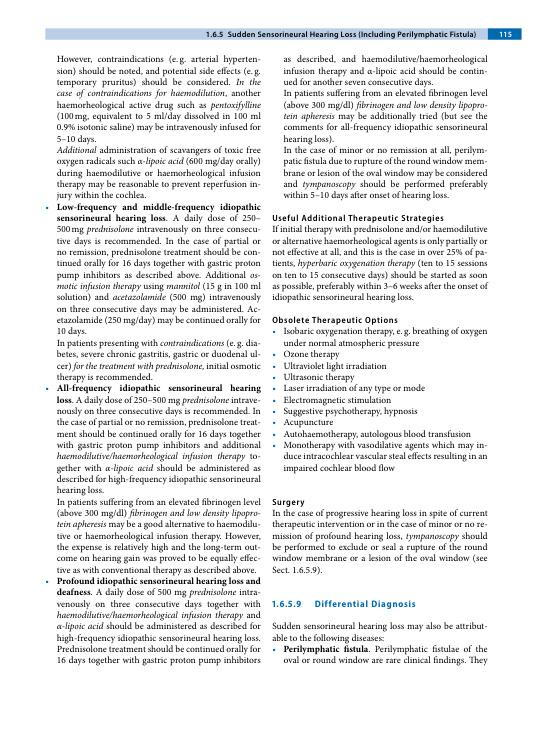header: (227, 30, 477, 40)
list: (40, 52, 264, 669), (271, 326, 488, 475), (272, 644, 488, 666)
sub-section-heading: (271, 213, 444, 223), (271, 315, 399, 326), (314, 599, 417, 610), (271, 497, 306, 507)
text: (282, 54, 489, 202), (271, 224, 489, 303), (271, 508, 489, 576), (271, 621, 488, 644)
